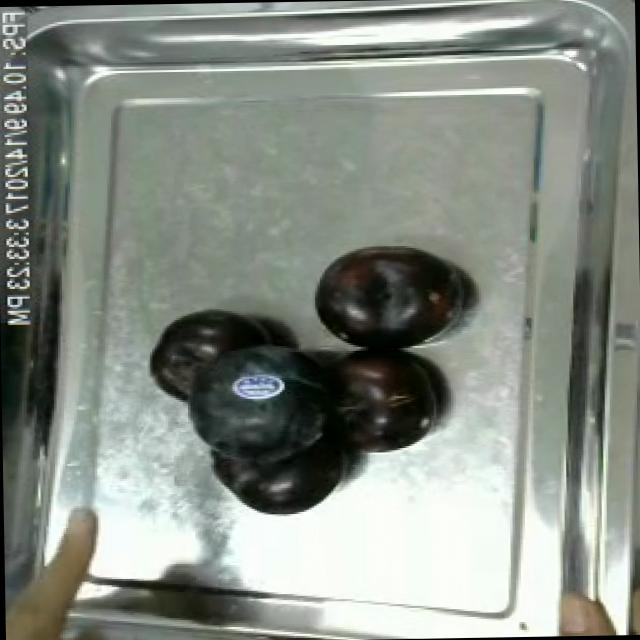Fruit: (301, 236, 467, 354), (311, 336, 449, 464), (538, 580, 633, 636)
